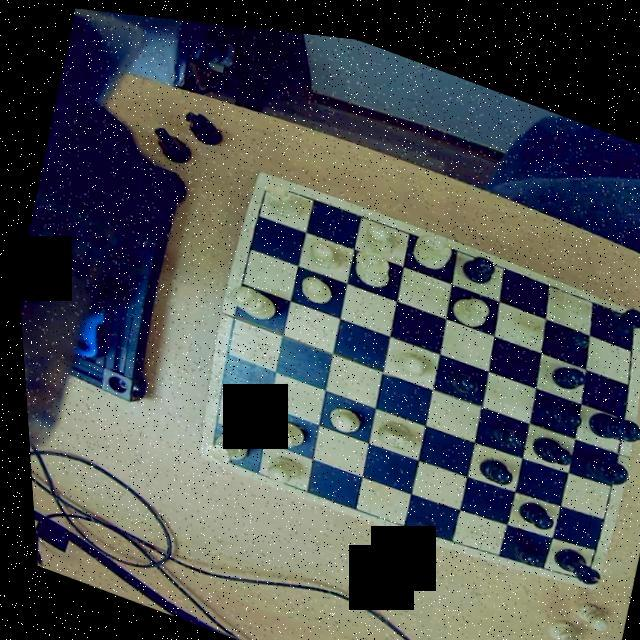chess-table-corners: (194, 432, 226, 462), (251, 166, 279, 193), (566, 550, 594, 575), (612, 291, 640, 316)
